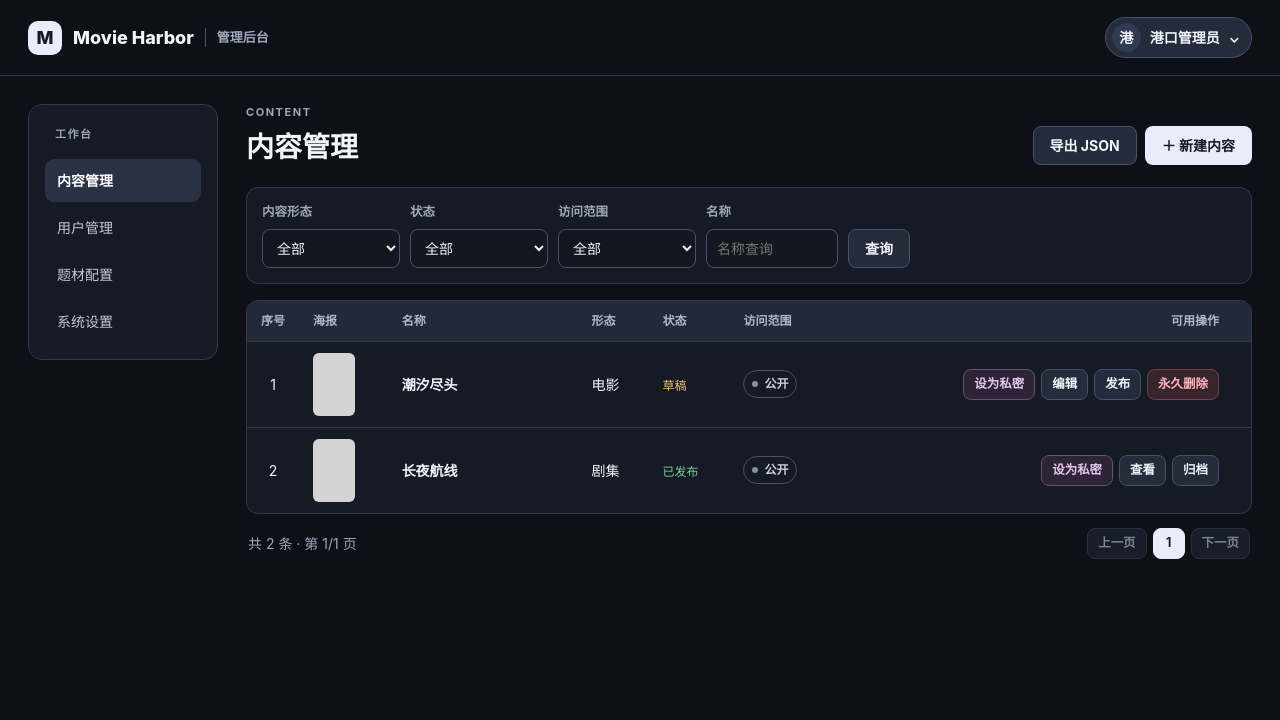
Test: loads the unified list and submits compact name and dropdown filters to the API
Check: the column heading "潮汐尽头" is shown, box [388, 341, 578, 427]
Check: the column heading "长夜航线" is shown, box [388, 427, 578, 513]
Select "剧集" in the dropdown labelled "内容形态" at x=331, y=248, box [262, 229, 400, 268]
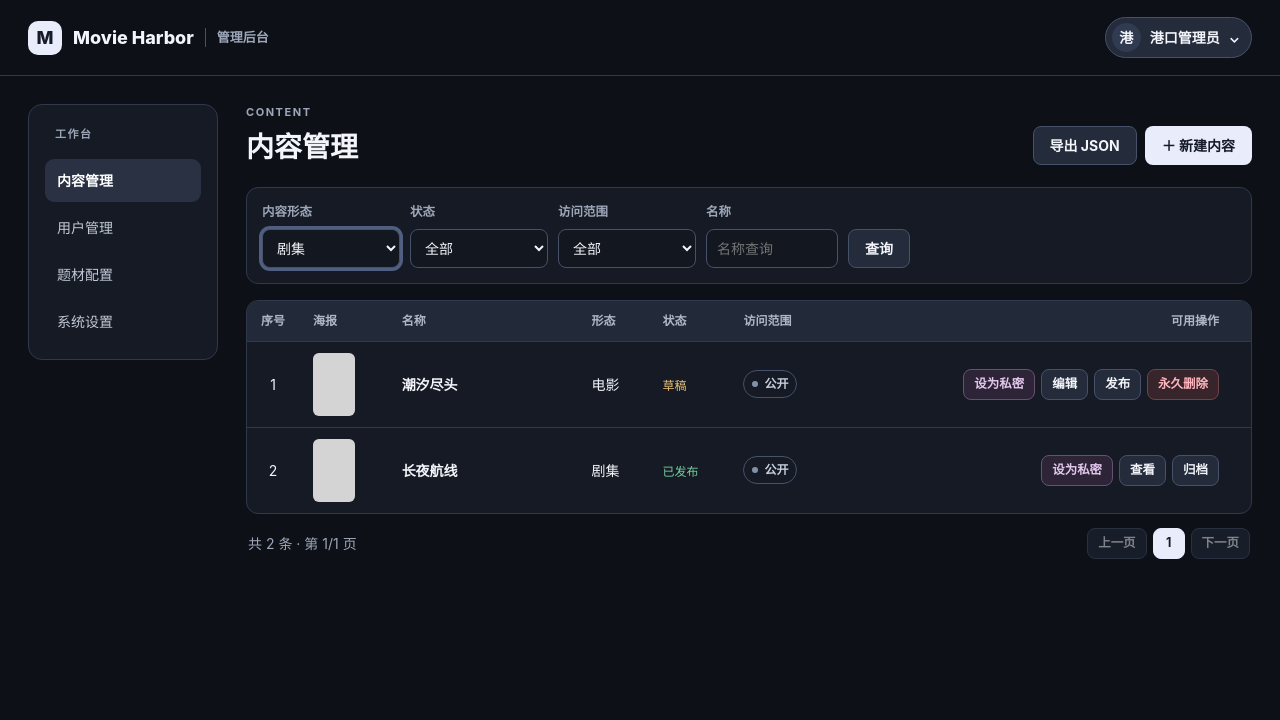
Select "已归档" in the dropdown labelled "状态" at x=479, y=248, box [410, 229, 548, 268]
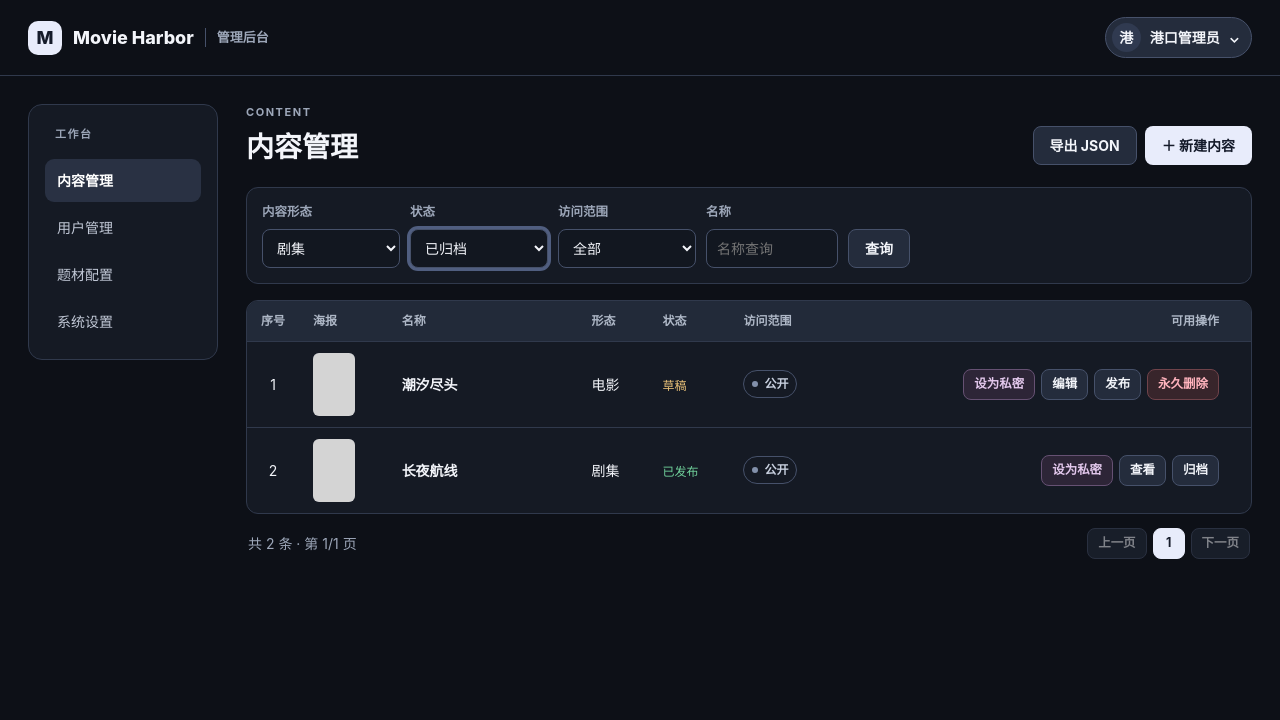
Type "  长夜  " into the search field labelled "名称" at x=772, y=248, box [706, 229, 838, 268]
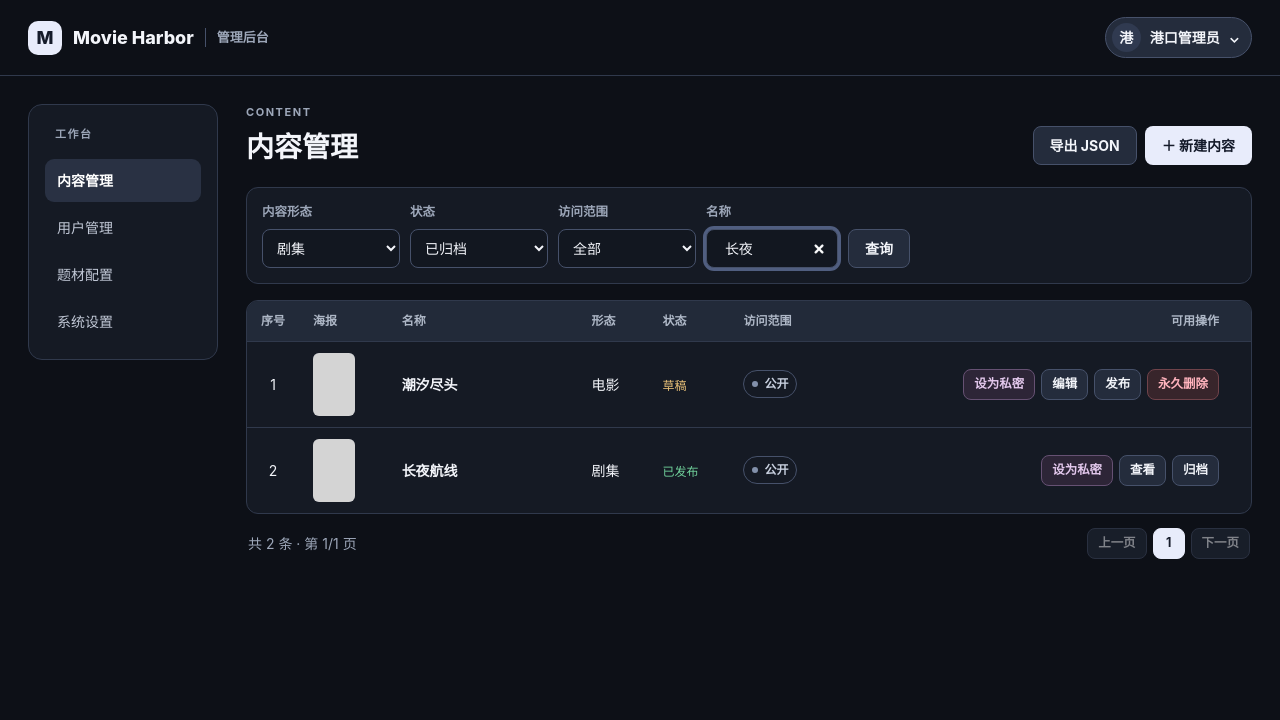
Click the button "查询" at x=879, y=248, box [848, 229, 910, 268]
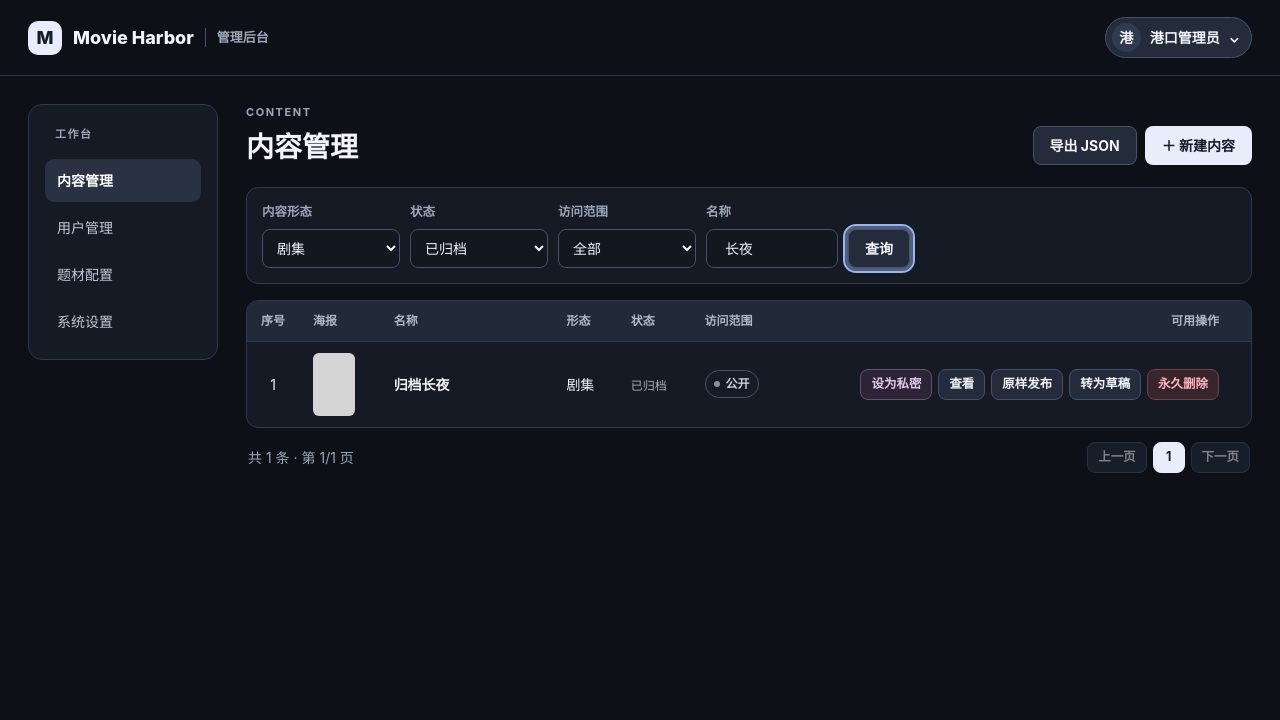
Check: the column heading "归档长夜" is shown, box [380, 341, 552, 427]
Check: the column heading "潮汐尽头" is gone
